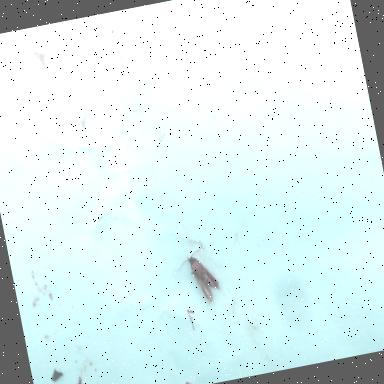pbw: (172, 239, 226, 308)
